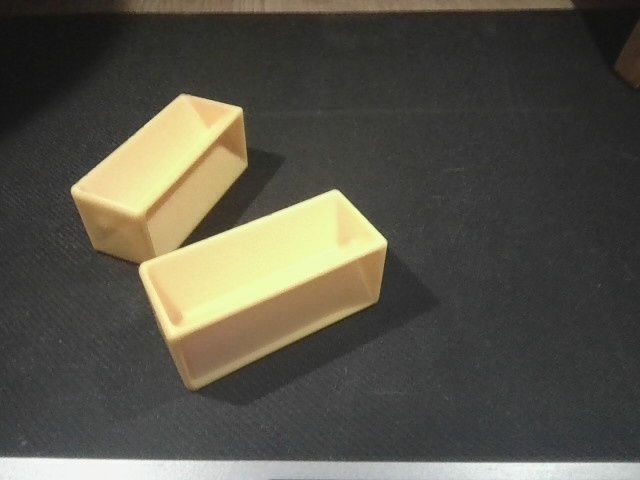YellowSample: (137, 186, 392, 394), (65, 91, 251, 265)
